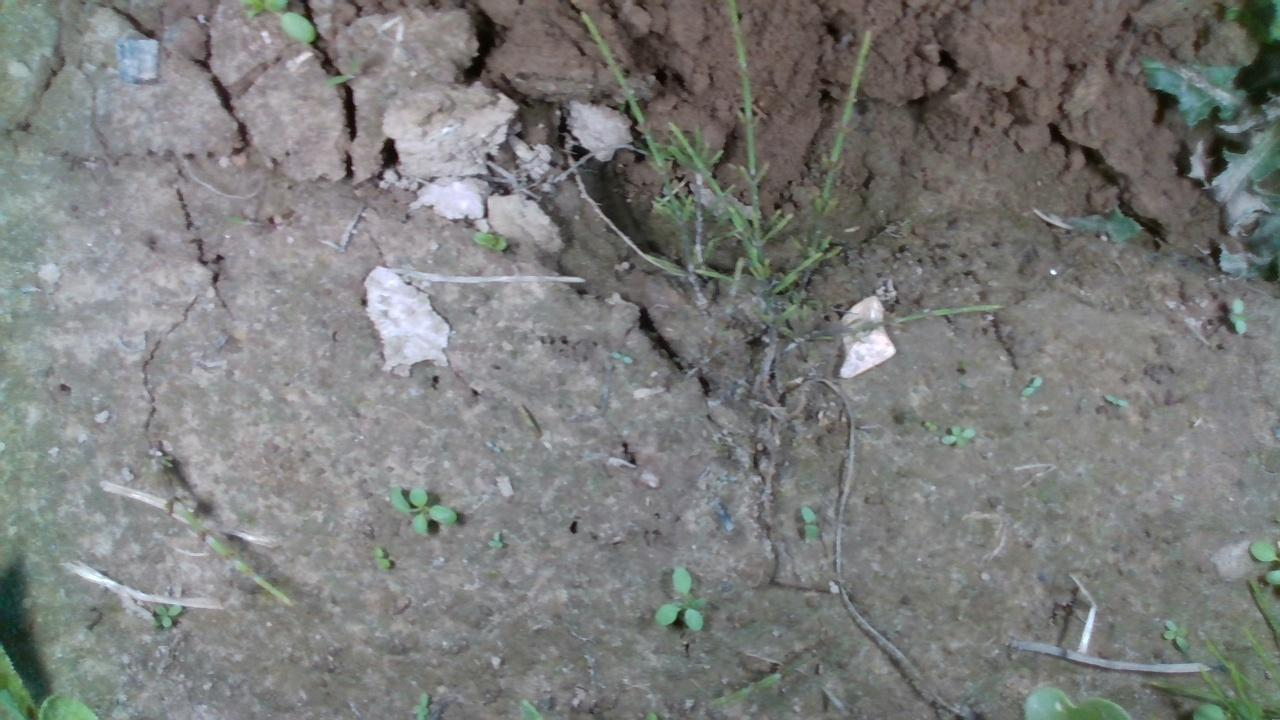weed: (650, 565, 708, 631), (387, 483, 457, 536), (1160, 616, 1189, 653), (938, 424, 976, 449), (151, 602, 181, 628), (798, 502, 817, 541), (1230, 295, 1248, 336), (370, 543, 392, 570), (1020, 373, 1042, 395), (922, 417, 936, 431)
